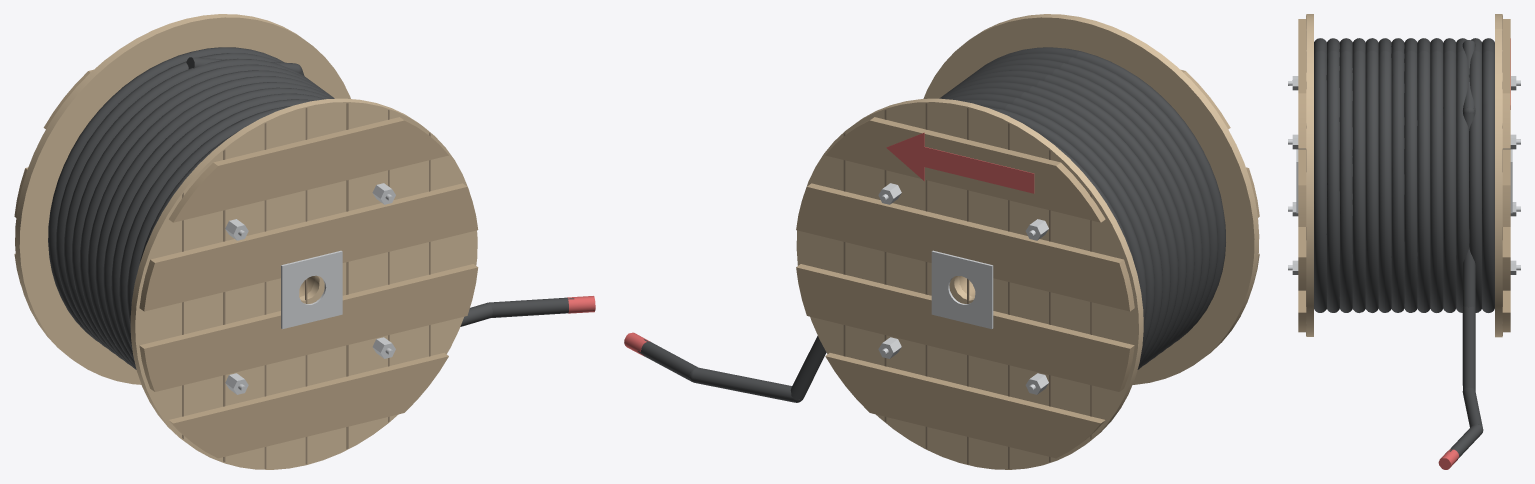
The model's file is cable-reel.glb.
The picture shows the model from 3 angles, left to right: view 1: azimuth 30°, elevation 25°; view 2: azimuth 150°, elevation 25°; view 3: azimuth 270°, elevation 25°; orthographic projection. The views are drawn at different scales.
Parts seen in each view (by area): view 1: flanges, battens, cable, hardware, plank_seams; view 2: flanges, battens, cable, hardware, roll_arrow, plank_seams; view 3: cable, battens, flanges, hardware, roll_arrow, plank_seams.
Boxes of the visible parts, x1,y1,x2,y2 form: flanges: (15, 14, 477, 469); battens: (14, 69, 478, 458); cable: (48, 47, 574, 369); hardware: (225, 183, 395, 394); plank_seams: (182, 103, 430, 468); flanges: (796, 14, 1259, 469); battens: (796, 69, 1259, 458); cable: (637, 47, 1225, 402); hardware: (878, 183, 1048, 394); roll_arrow: (624, 132, 1034, 356); plank_seams: (843, 103, 1091, 468); cable: (1314, 38, 1494, 459); battens: (1298, 19, 1510, 332); flanges: (1306, 14, 1502, 337); hardware: (1288, 76, 1520, 274); roll_arrow: (1438, 38, 1510, 469); plank_seams: (1306, 15, 1502, 335).
Bounding box in the file's own units: 1.99 × 1.25 × 0.9.
